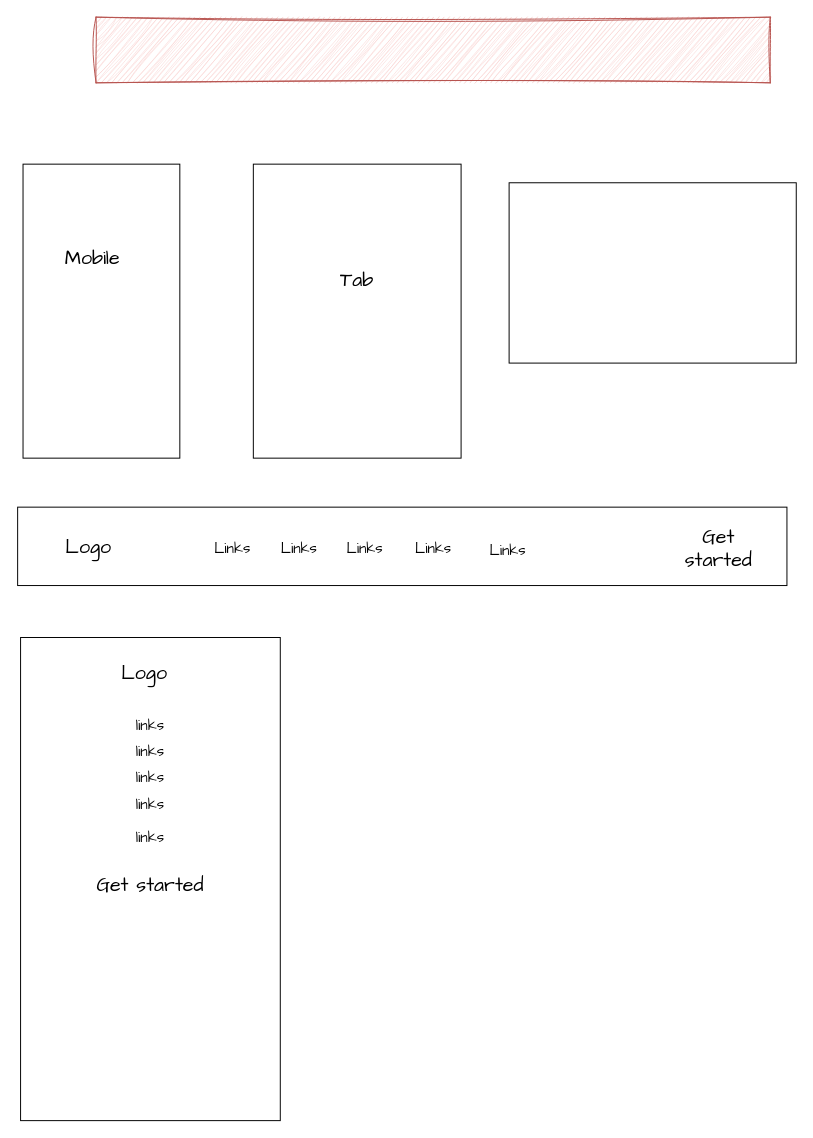
The diagram is 813 pixels wide and 1138 high, and some of its shapes have lost their labels. Each missing label, with the box of its shape:
Desktop: (508, 182, 796, 363)
Responsive Menu Design: (95, 16, 770, 83)
